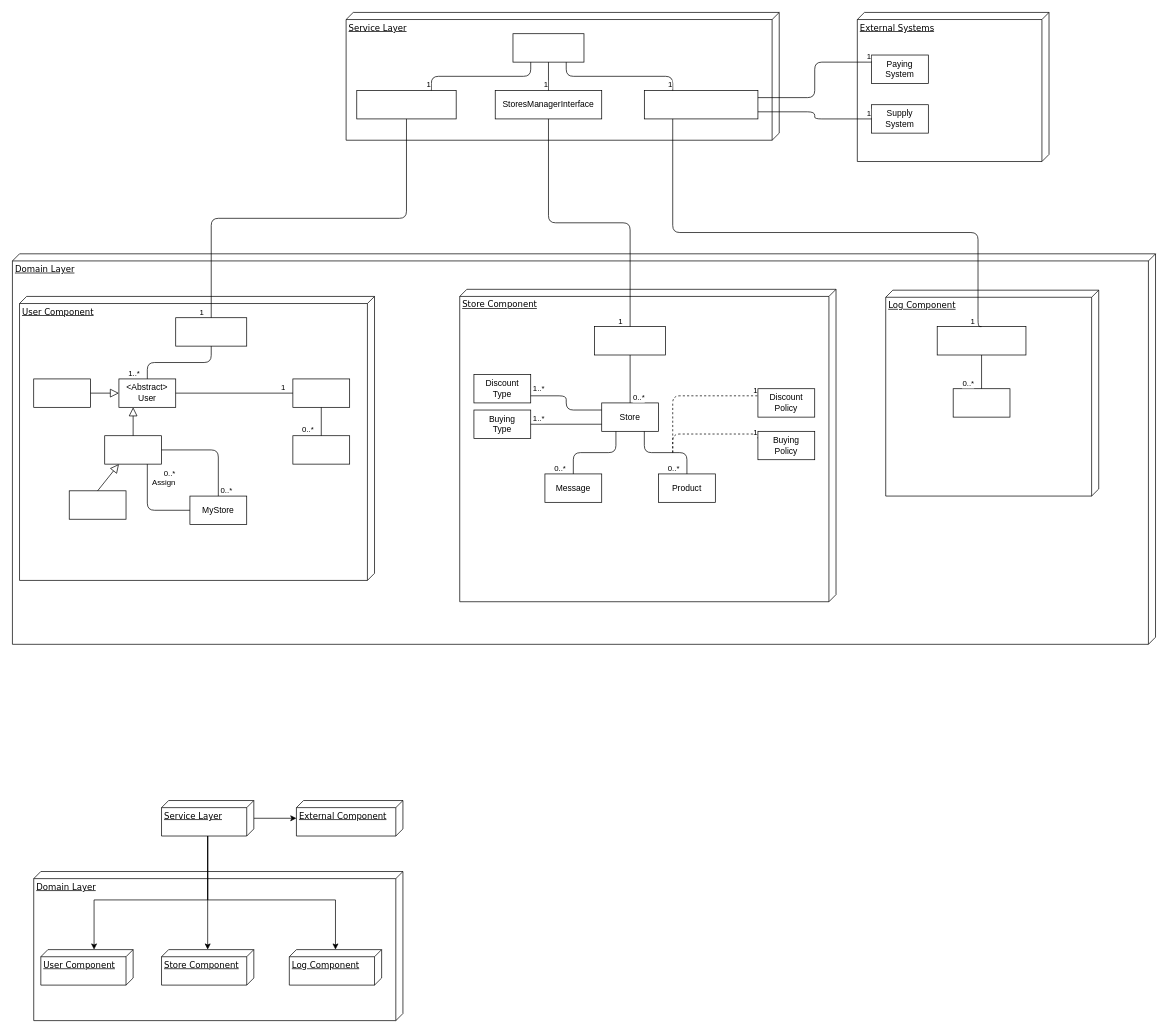
The diagram is 1168 pixels wide and 1033 high, and some of its shapes have lost their labels. Here are the shapes that lost their labels. From the top down, the centre of each, then its label:
the point at 548,47: <Facade> System
the point at 406,104: UsersManagerInterface
the point at 701,104: PurchaseManagerInterface
the point at 211,331: <Facade> Users Handler
the point at 630,340: <Facade> Store Handler
the point at 981,340: <Facade> Purchase Handler
the point at 62,392: Guest
the point at 321,392: Cart
the point at 981,402: Purchases
the point at 133,449: Registered
the point at 321,449: Basket
the point at 97,504: Admin
